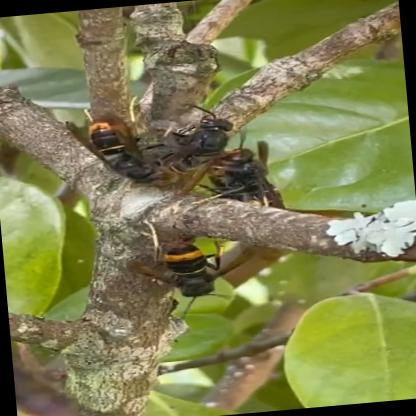bee: (20, 77, 332, 323)
